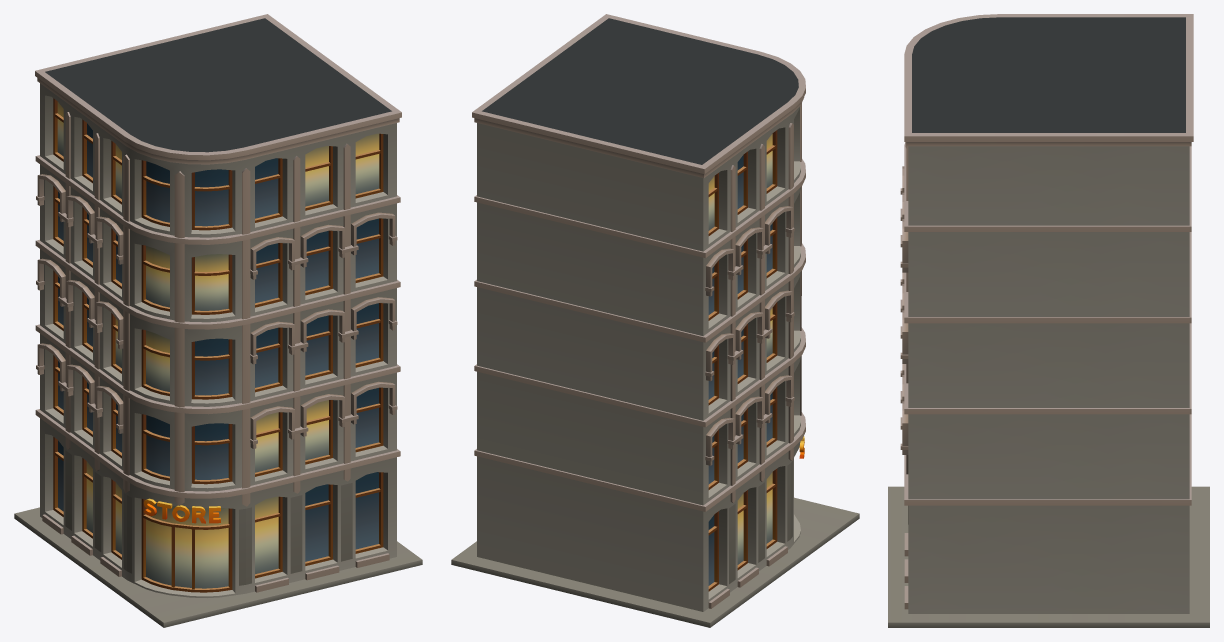
The model's file is Building_20A.fbx.
3 views of the same model, side by side, from view 1: azimuth 30°, elevation 25°; view 2: azimuth 150°, elevation 25°; view 3: azimuth 270°, elevation 25° (orthographic). The views are drawn at different scales.
Parts seen in each view (by area): view 1: Building_20A, Window_Lights_20A, Building_20A_Logo; view 2: Building_20A, Window_Lights_20A; view 3: Building_20A.
Boxes of the visible parts, bbox=[...] form: Building_20A: bbox=[14, 14, 422, 627]; Window_Lights_20A: bbox=[57, 102, 379, 588]; Building_20A_Logo: bbox=[143, 498, 220, 523]; Building_20A: bbox=[451, 14, 859, 627]; Window_Lights_20A: bbox=[708, 134, 772, 564]; Building_20A: bbox=[888, 14, 1209, 627].
Bounding box in the file's own units: 1600 × 2660 × 1600.
